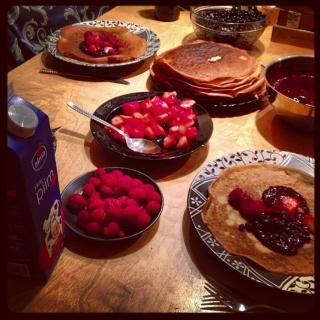Pancake: (198, 162, 318, 276), (148, 41, 266, 107), (53, 22, 148, 64)
